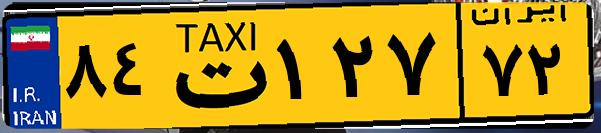1: (270, 28, 330, 110)
2: (330, 28, 385, 110), (525, 38, 570, 115)
4: (110, 28, 158, 98)
7: (385, 28, 445, 110), (475, 38, 525, 113)
8: (57, 26, 110, 100)
ت: (158, 12, 270, 120)
